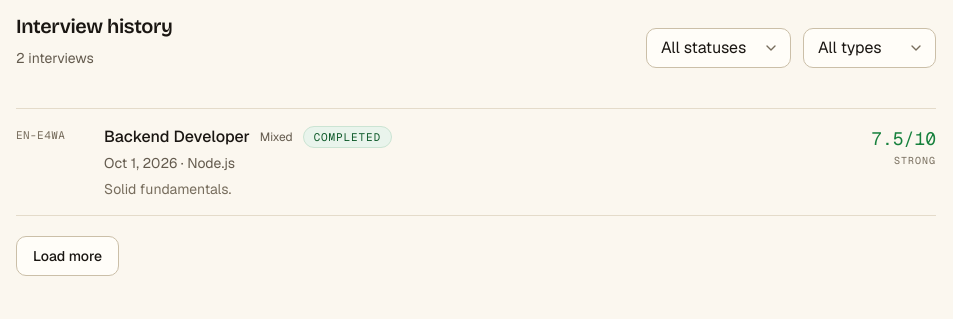
Test: HistoryPage › lists interviews and loads the next page with the cursor
Expected: the heading "Backend Developer" is shown, [104,125,250,149]
Expected: the text "2 interviews" is shown, [16,49,94,67]
Step 1. Click the button "Load more" → [68, 256], box [16,236,119,276]
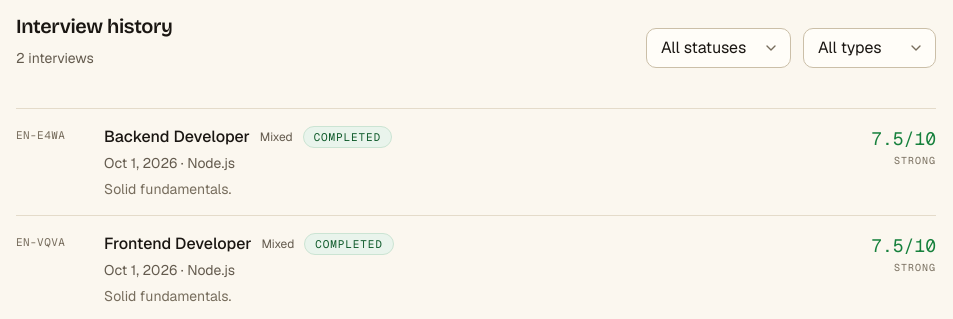
Now the heading "Frontend Developer" is shown, box [104,232,252,256]
Now the button "Load more" is gone
